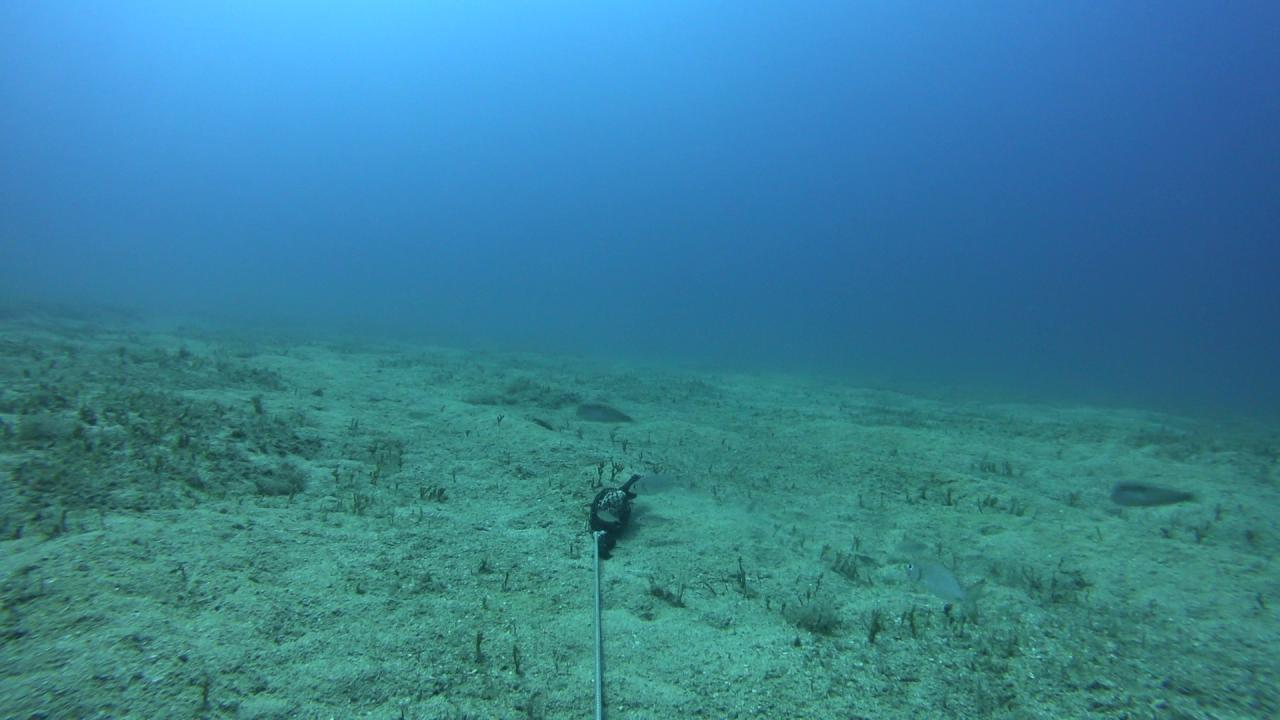pagellus: (902, 558, 985, 628), (626, 468, 691, 499), (637, 509, 680, 530), (598, 510, 624, 524)
raor: (1105, 481, 1208, 511), (571, 400, 639, 428)
